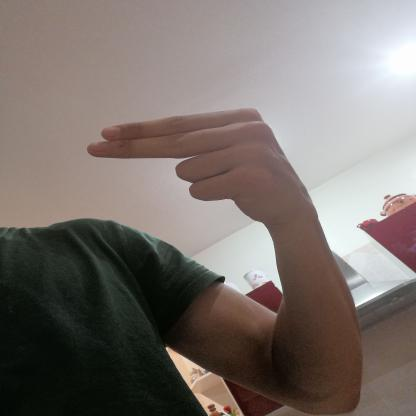AYN: (79, 97, 321, 232)
